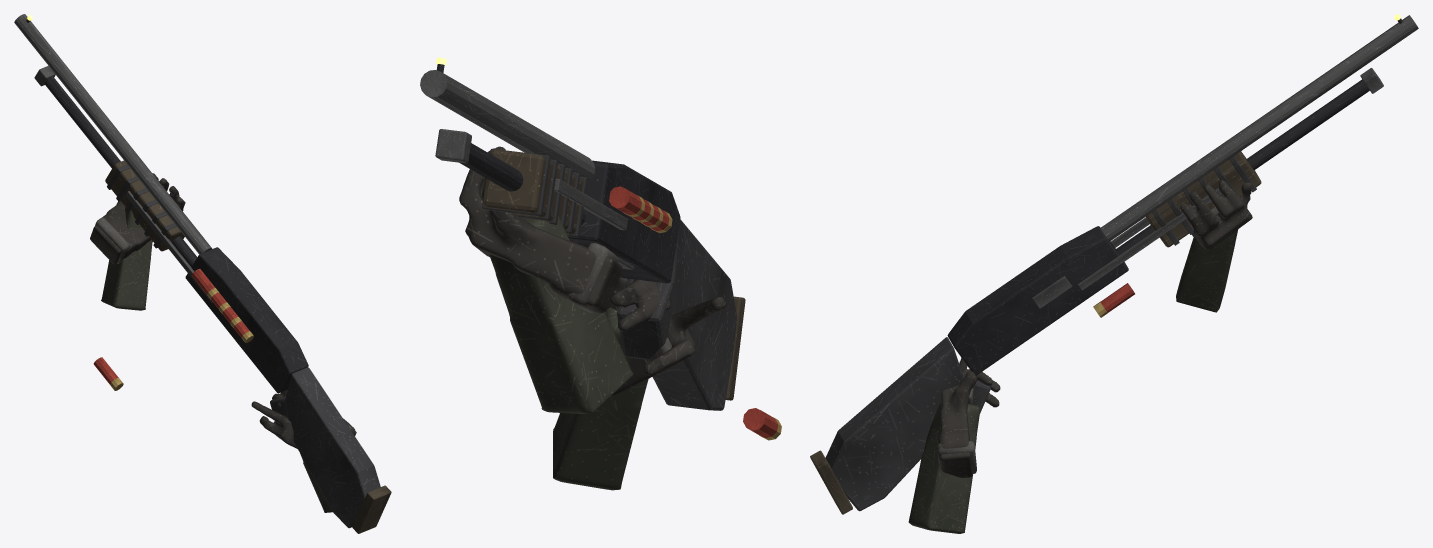
Rendered from shotgun.glb.
3 views of the same model, side by side, from view 1: azimuth 30°, elevation 25°; view 2: azimuth 150°, elevation 25°; view 3: azimuth 270°, elevation 25° (orthographic). The views are drawn at different scales.
Parts seen in each view (by area): view 1: stock, receiver, barrel, forearm_L, hand_L_mesh, pump_body, magtube, recoil_pad, hand_R_mesh, bar_l, hand_L_cuff_ring; view 2: forearm_L, stock, hand_L_mesh, forearm_R, receiver, barrel, hand_R_mesh, pump_body, grip_hump, magtube, bar_l, tube_cap (+5 smaller); view 3: stock, receiver, barrel, forearm_R, hand_R_mesh, forearm_L, hand_L_mesh, magtube, pump_body, bar_r, recoil_pad.
Boxes of the visible parts, x1,y1,x2,y2 form: stock: (285,367,380,528); receiver: (185,247,308,393); barrel: (14,14,212,254); forearm_L: (101,207,152,310); hand_L_mesh: (90,173,185,264); pump_body: (105,160,184,251); magtube: (44,76,197,266); recoil_pad: (352,485,391,533); hand_R_mesh: (251,390,356,448); bar_l: (126,191,212,302); hand_L_cuff_ring: (95,217,129,263); forearm_L: (489,215,633,413); stock: (628,219,737,410); hand_L_mesh: (459,146,622,313); forearm_R: (553,308,648,490); receiver: (568,160,680,283); barrel: (420,70,595,181); hand_R_mesh: (605,277,726,396); pump_body: (483,149,586,234); grip_hump: (617,279,675,359); magtube: (459,143,585,224); bar_l: (554,178,627,230); tube_cap: (435,129,471,163); stock: (825,337,963,511); receiver: (947,226,1128,375); barrel: (1100,15,1418,241); forearm_R: (908,402,980,533); hand_R_mesh: (938,358,1000,477); forearm_L: (1176,229,1238,312); hand_L_mesh: (1180,180,1252,250); magtube: (1115,79,1369,255); pump_body: (1146,151,1261,247); bar_r: (1078,187,1221,290); recoil_pad: (810,450,852,514).
Bounding box in the file's own units: 0.3596 × 0.6919 × 0.8426.
10 materials, 9 textured.
